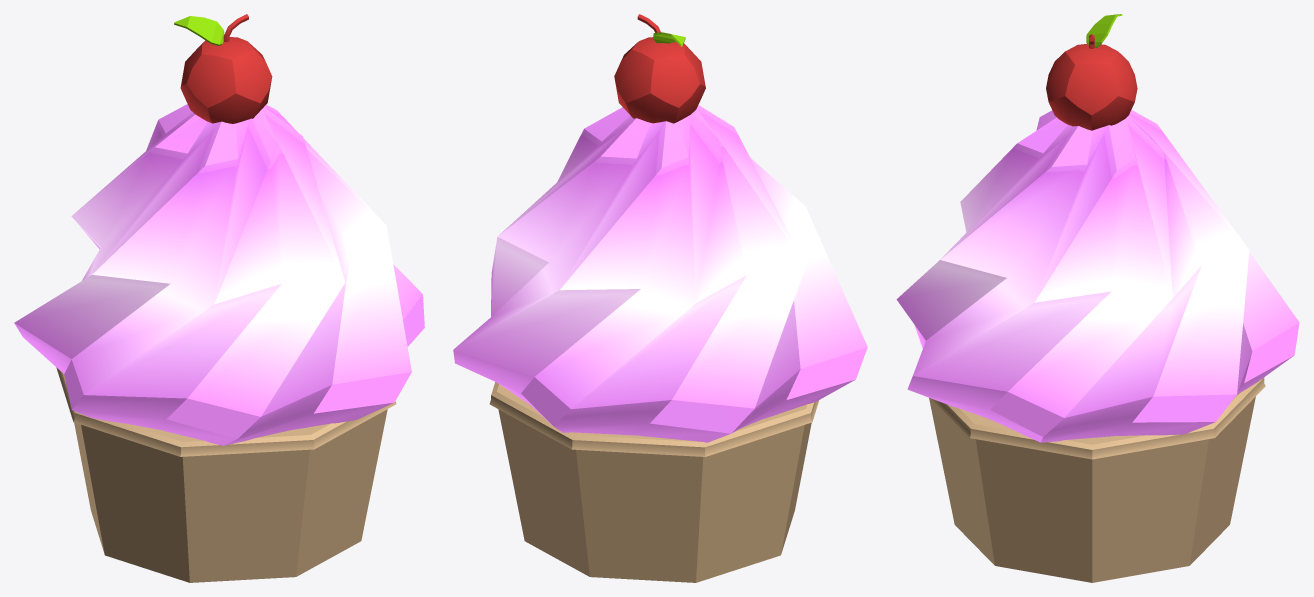
The model's file is cupcake-lamp-strawberry.glb.
3 renders of one model, left to right at view 1: azimuth 30°, elevation 25°; view 2: azimuth 150°, elevation 25°; view 3: azimuth 270°, elevation 25°, orthographic.
Parts seen in each view (by area): view 1: cupcake-lamp-strawberry; view 2: cupcake-lamp-strawberry; view 3: cupcake-lamp-strawberry.
Boxes of the visible parts, <box> form: cupcake-lamp-strawberry: <box>14,14,424,582</box>; cupcake-lamp-strawberry: <box>453,14,867,582</box>; cupcake-lamp-strawberry: <box>896,14,1299,582</box>.
Size of what is drawn, in the model's own units: 0.5905 by 0.7991 by 0.5855.
4 materials, 1 textured.
